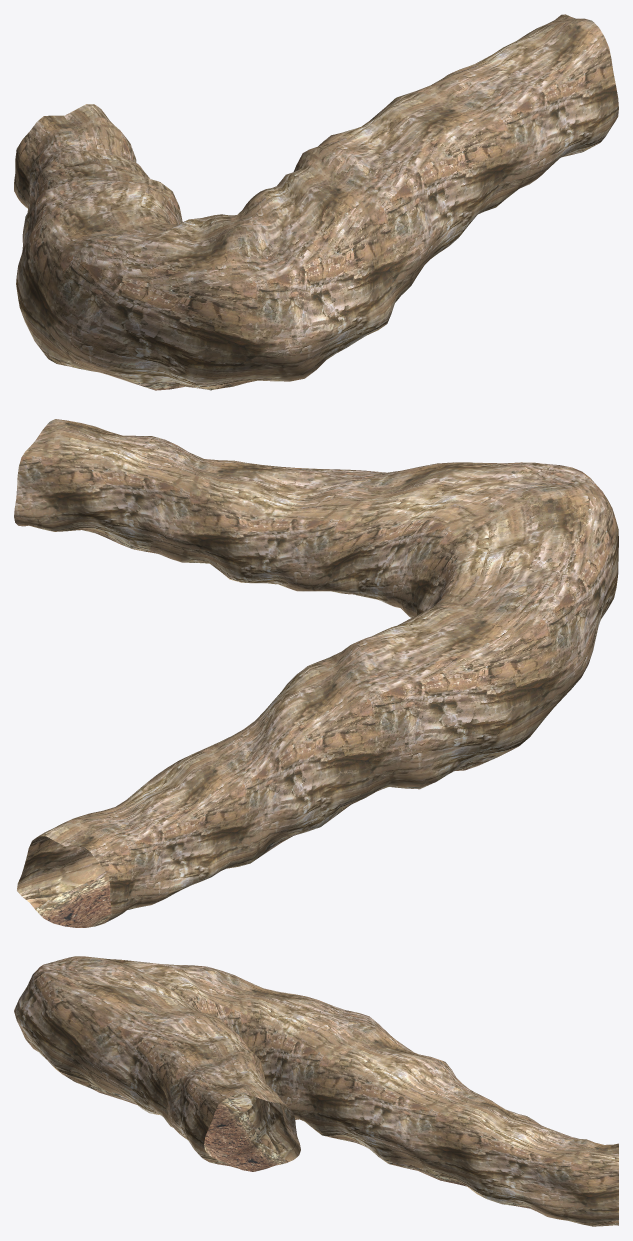
Rendered from thm_tato_cave_s02_r19_mesh_r19.fbx.
The picture shows the model from 3 angles, top to bottom: view 1: azimuth 30°, elevation 25°; view 2: azimuth 150°, elevation 25°; view 3: azimuth 270°, elevation 25°; orthographic projection. The views are drawn at different scales.
Visible parts, largest first — view 1: mesh_node; view 2: mesh_node; view 3: mesh_node.
Part boxes in pixels (x1=…): mesh_node: x1=14, y1=14, x2=618, y2=390; mesh_node: x1=14, y1=419, x2=618, y2=927; mesh_node: x1=14, y1=956, x2=618, y2=1226.
Size of the model in its own units: 51 by 27.19 by 65.87.
